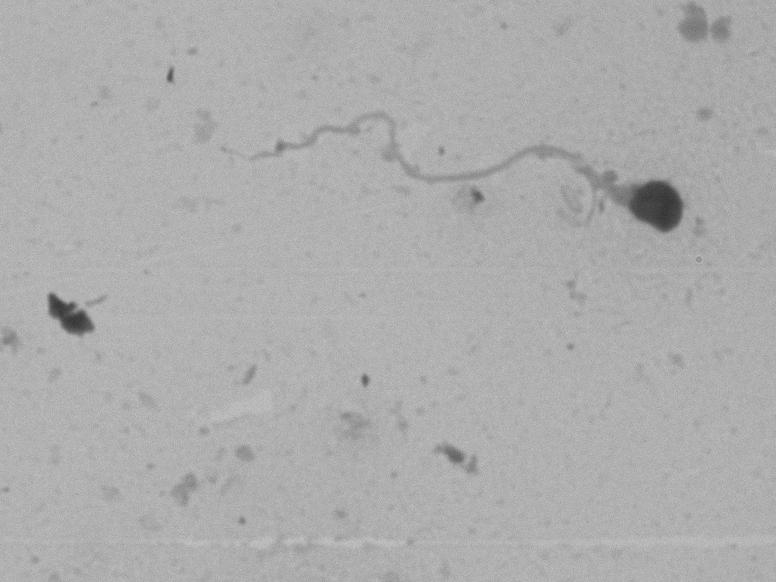Abnormal: (186, 69, 702, 307)
